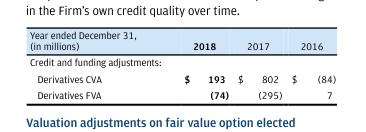table: (28, 28, 335, 100)
table column: (28, 28, 159, 100), (159, 28, 232, 100), (232, 28, 286, 100), (286, 28, 335, 100)
table column header: (28, 28, 335, 53)
table projected row header: (28, 53, 335, 69)
table row: (28, 28, 335, 53), (28, 69, 335, 86), (28, 53, 335, 69), (28, 86, 335, 100)
